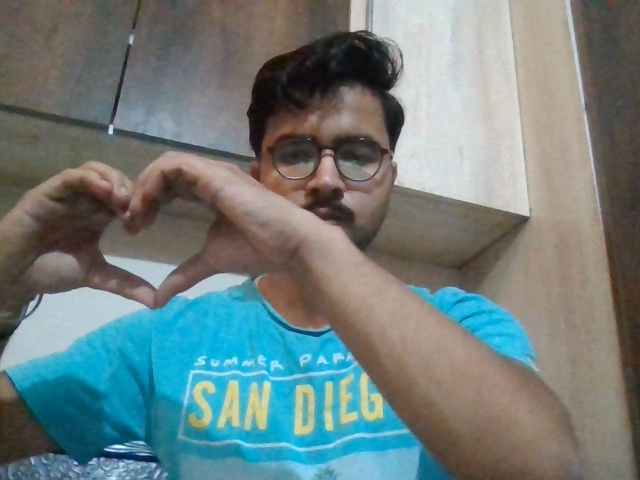iloveyou: (11, 143, 299, 308)
